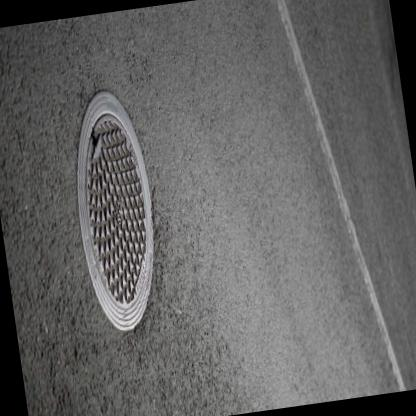manholes: (43, 62, 195, 350)
